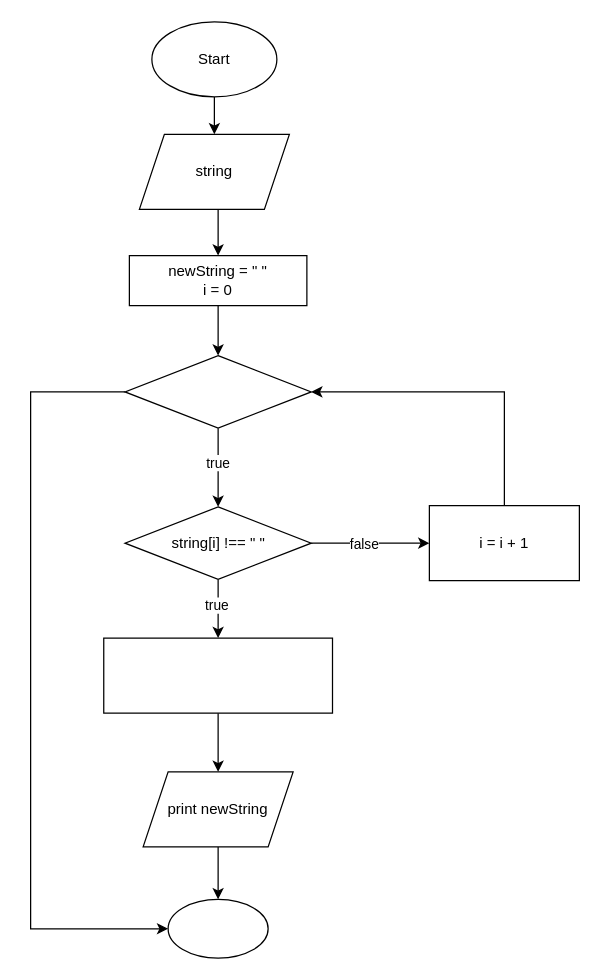
The diagram is 601 pixels wide and 980 high, and some of its shapes have lost their labels. The centre of each missing label's shape, as x and y in pixels:
"End" belongs at pixel 217 928.
"i < string.length" belongs at pixel 217 391.
"newString = newString + string[i]" belongs at pixel 217 675.
